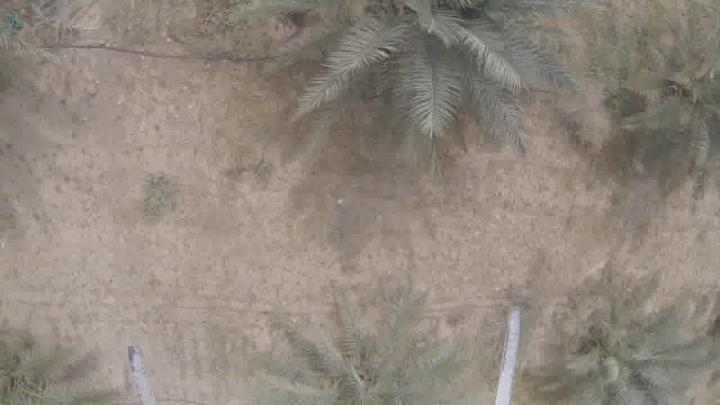Date-Palm-Crown: (321, 0, 549, 128), (282, 315, 459, 405), (552, 296, 684, 404), (662, 28, 720, 142), (0, 343, 68, 405)
